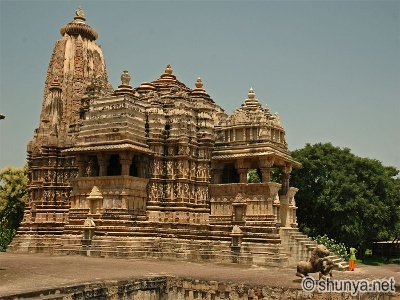amalaka: (54, 14, 107, 45)
gopuram: (41, 36, 123, 133)
mandapa: (207, 142, 301, 194), (69, 139, 150, 183)
